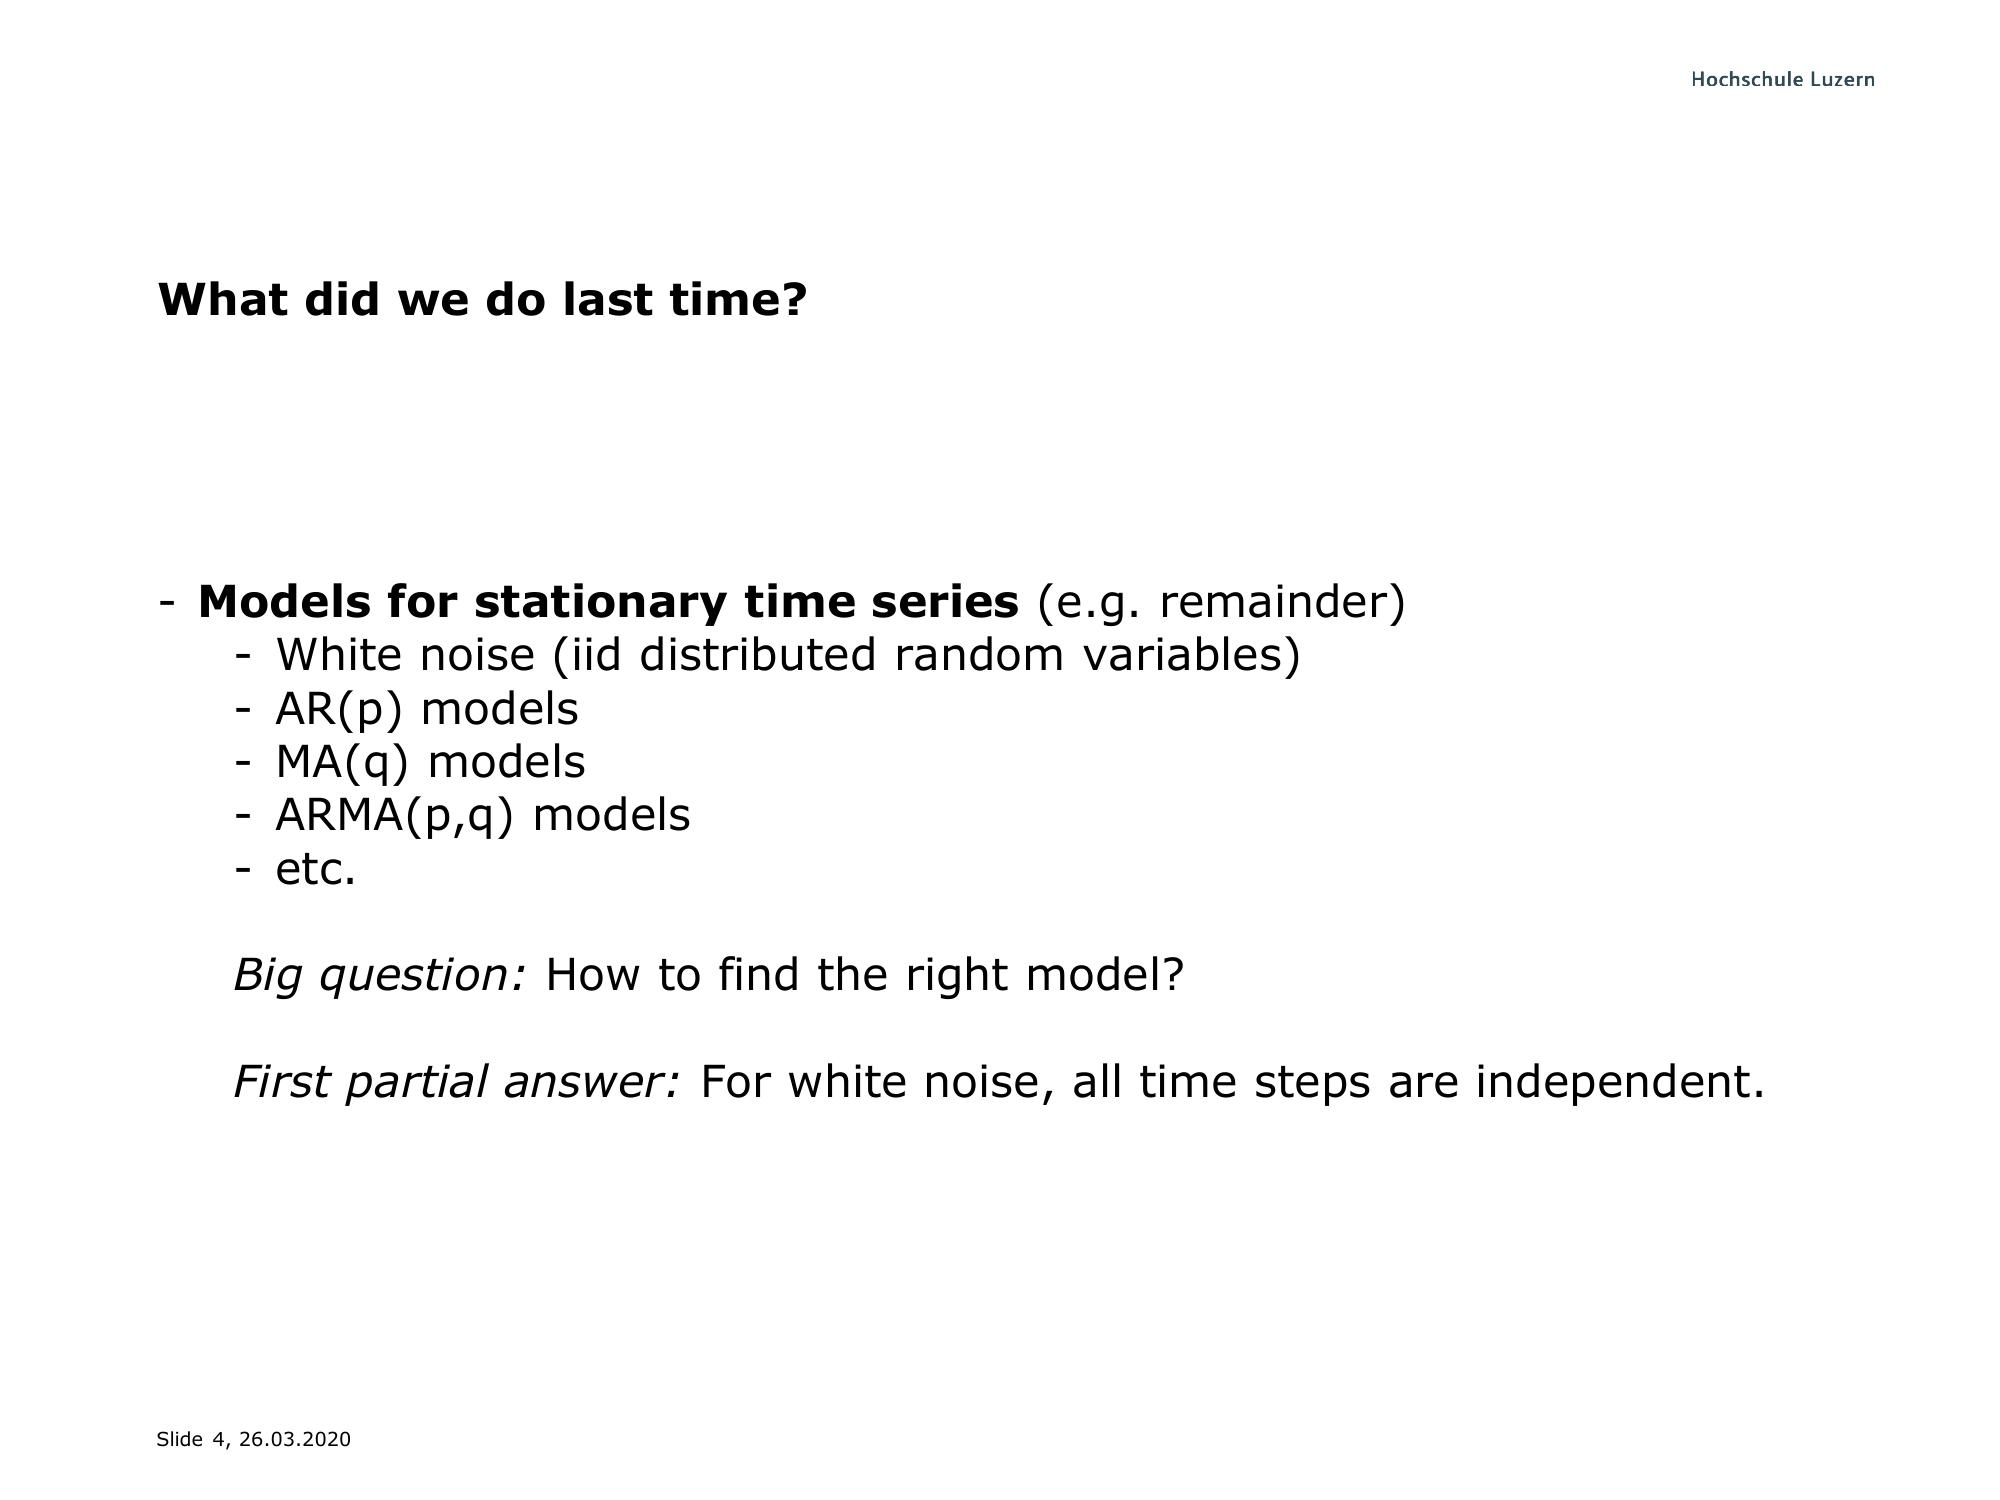Title: (153, 276, 827, 334)
